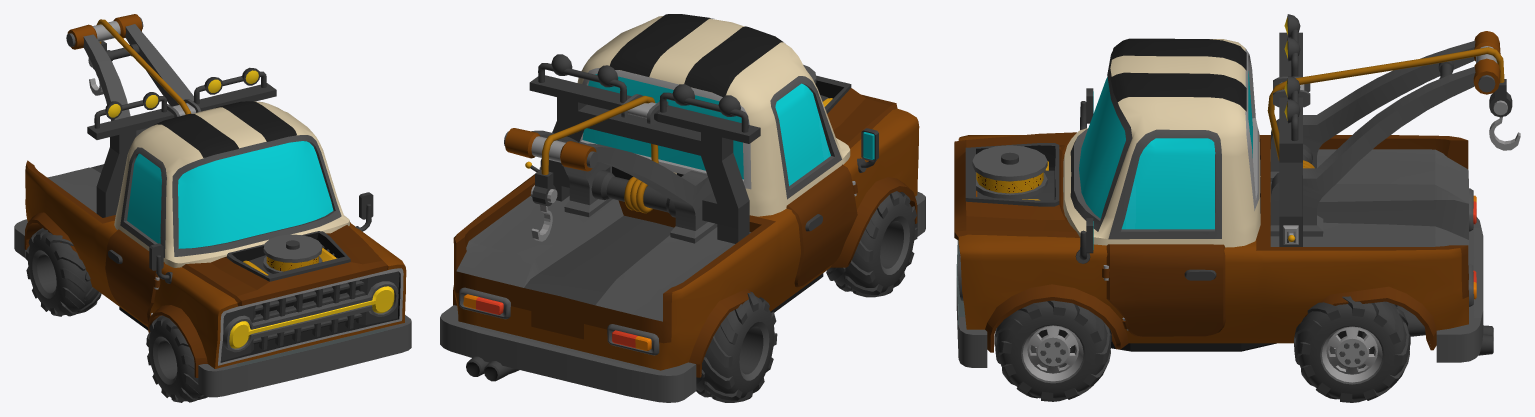
Rendered from VEH6-A.fbx.
The picture shows the model from 3 angles, left to right: view 1: azimuth 30°, elevation 25°; view 2: azimuth 150°, elevation 25°; view 3: azimuth 270°, elevation 25°; orthographic projection. The views are drawn at different scales.
Parts seen in each view (by area): view 1: VEH6_A, V6A_Wheel_BR, V6A_Wheel_FR, V6A_BodyParts; view 2: VEH6_A, V6A_Wheel_BR, V6A_Wheel_FR, V6A_BodyParts; view 3: VEH6_A, V6A_Wheel_BL, V6A_Wheel_FL, V6A_BodyParts.
Boxes of the visible parts, x1,y1,x2,y2 form: VEH6_A: (14,14,411,397); V6A_Wheel_BR: (25,228,101,316); V6A_Wheel_FR: (146,315,207,402); V6A_BodyParts: (96,19,191,114); VEH6_A: (440,14,925,402); V6A_Wheel_BR: (696,291,777,402); V6A_Wheel_FR: (826,191,917,297); V6A_BodyParts: (466,95,658,381); VEH6_A: (954,14,1520,367); V6A_Wheel_BL: (1294,296,1410,402); V6A_Wheel_FL: (994,300,1111,401); V6A_BodyParts: (1267,47,1504,355).
Bounding box in the file's own units: 251 × 246 × 432.
1 material, 1 textured.
